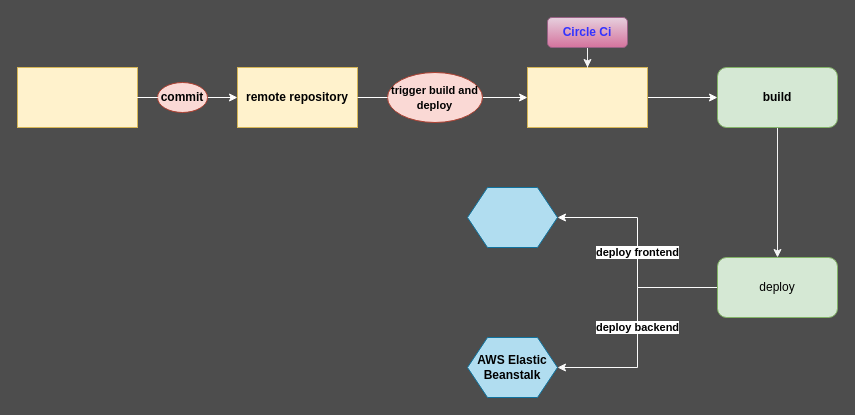
Some shapes in this 855 by 415 pixel diagram are drawn without their labels. The centre of each missing label's shape, as x and y in pixels:
"automation service" goes at pixel 587 97.
"AWS S3" goes at pixel 512 217.
"developer" goes at pixel 77 97.
